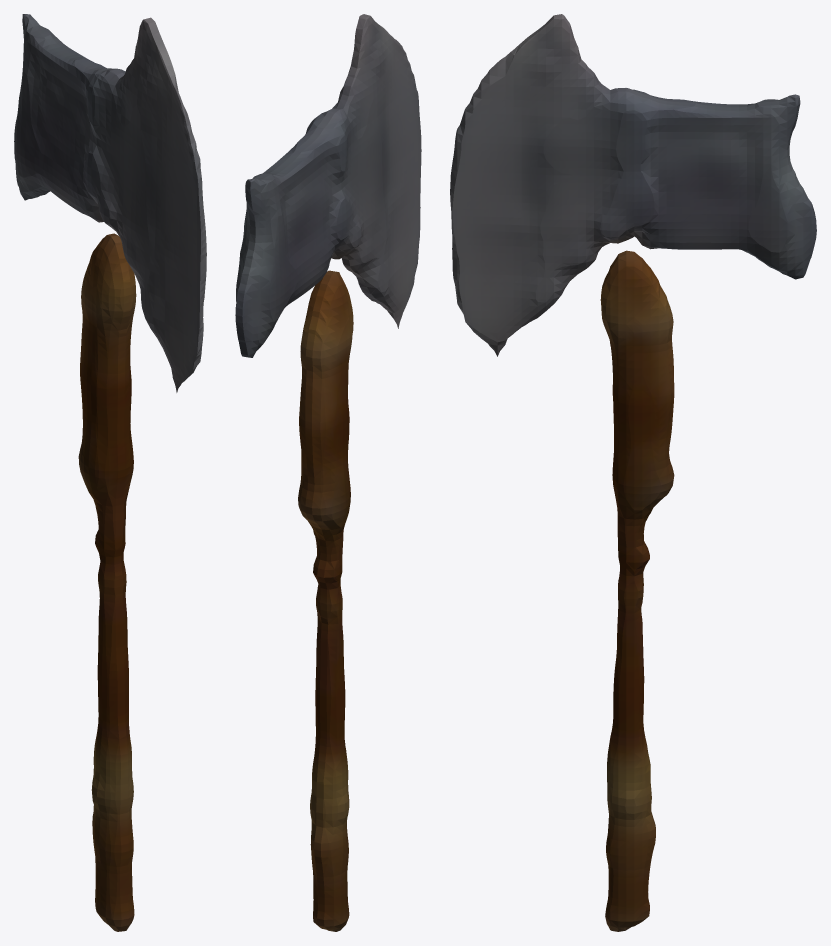
The model's file is axe_l1.glb.
3 views of the same model, side by side, from view 1: azimuth 30°, elevation 25°; view 2: azimuth 150°, elevation 25°; view 3: azimuth 270°, elevation 25° (orthographic). The views are drawn at different scales.
Parts seen in each view (by area): view 1: tmpm9jicw04.ply; view 2: tmpm9jicw04.ply; view 3: tmpm9jicw04.ply.
Part boxes in pixels (x1,y1,x2,y2): tmpm9jicw04.ply: (14,14,206,931); tmpm9jicw04.ply: (235,14,421,931); tmpm9jicw04.ply: (450,14,816,931).
Size of the model in its own units: 0.0965 by 1.94 by 0.7065.
